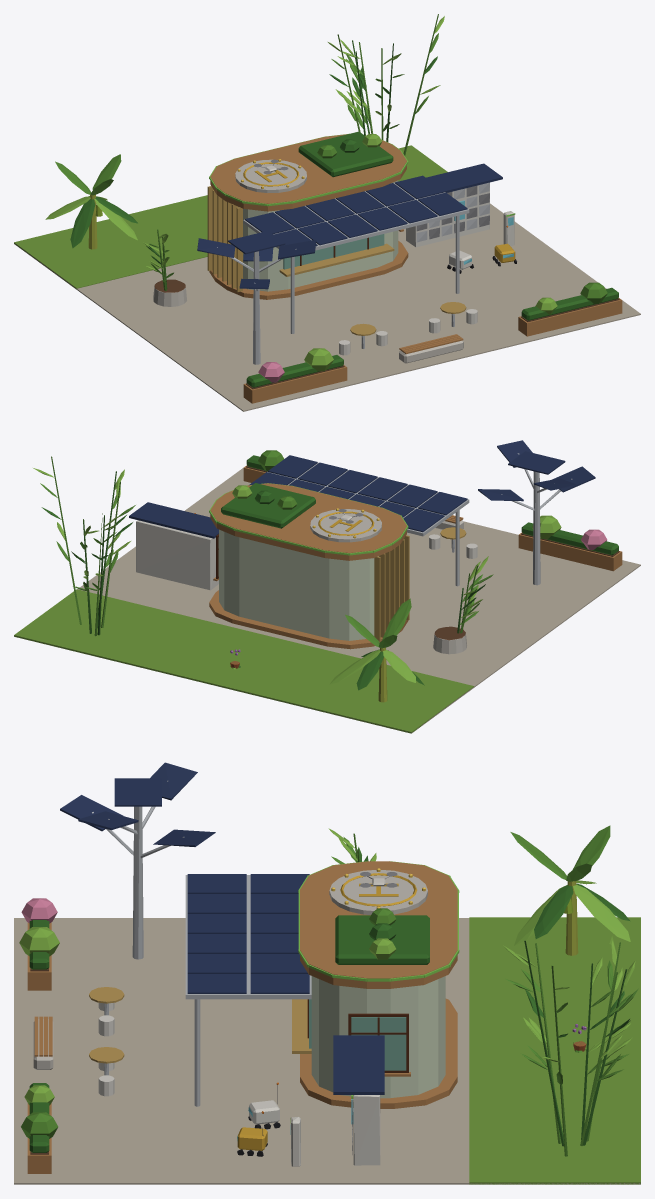
The model's file is shop_1.glb.
3 renders of one model, top to bottom at view 1: azimuth 30°, elevation 25°; view 2: azimuth 150°, elevation 25°; view 3: azimuth 270°, elevation 25°, orthographic. The views are drawn at different scales.
Parts seen in each view (by area): view 1: body, windows; view 2: body, windows; view 3: body, windows.
Part boxes in pixels (x1,y1,x2,y2): body: [14, 14, 640, 411]; windows: [209, 133, 515, 264]; body: [14, 440, 640, 733]; windows: [209, 483, 408, 555]; body: [14, 762, 640, 1184]; windows: [237, 861, 459, 1140].
Bounding box in the file's own units: 16.2 × 6.25 × 15.9.
